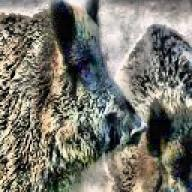boar: (0, 0, 147, 192), (105, 22, 192, 192)
